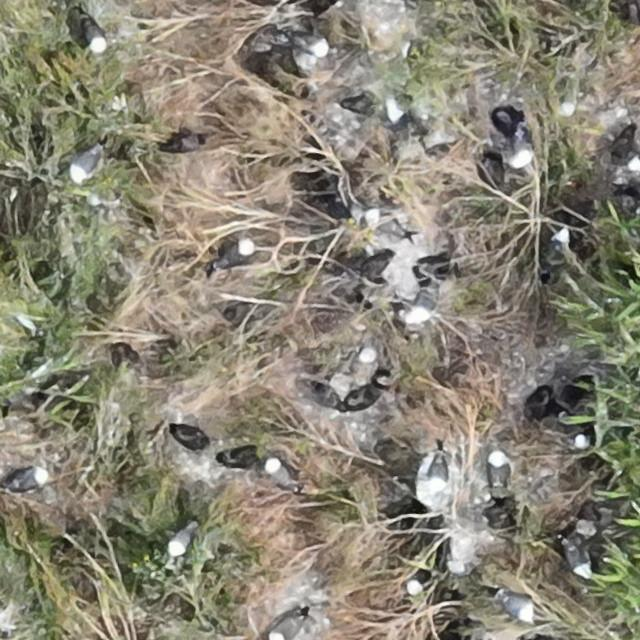umineko: (365, 210, 412, 238), (541, 228, 569, 273), (269, 608, 308, 640), (412, 285, 442, 323), (556, 414, 586, 446), (71, 148, 100, 180), (562, 71, 580, 116), (219, 240, 250, 266), (8, 469, 44, 491), (566, 544, 590, 577), (502, 594, 534, 618), (83, 18, 106, 51), (167, 527, 192, 557), (265, 461, 292, 488), (407, 568, 433, 596), (387, 93, 412, 121), (339, 344, 377, 362), (296, 34, 328, 54), (489, 454, 508, 486), (512, 134, 530, 166), (431, 458, 445, 487)
